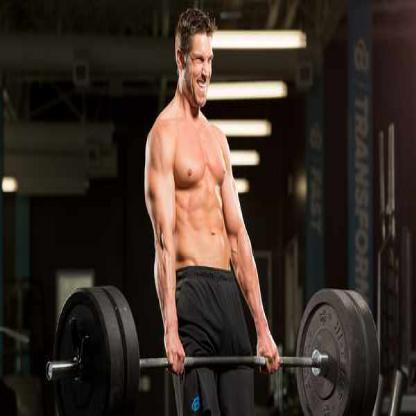Barbell: (46, 360, 56, 383)
